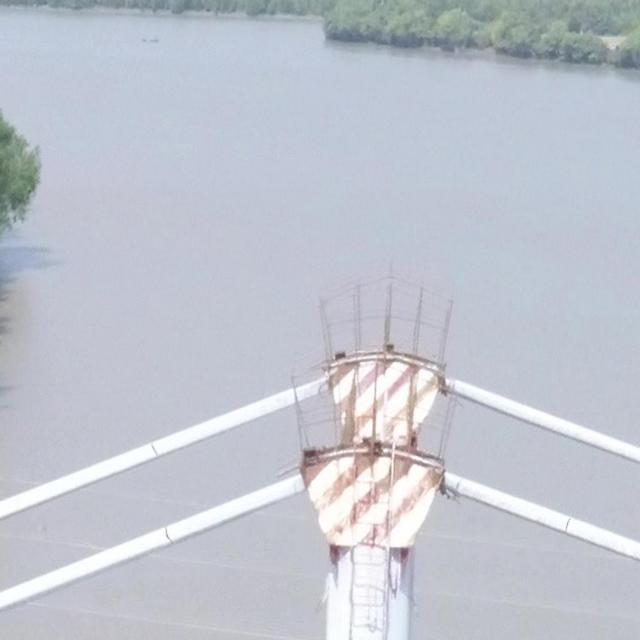crack: (163, 527, 174, 545), (150, 443, 160, 456), (564, 517, 571, 532)
